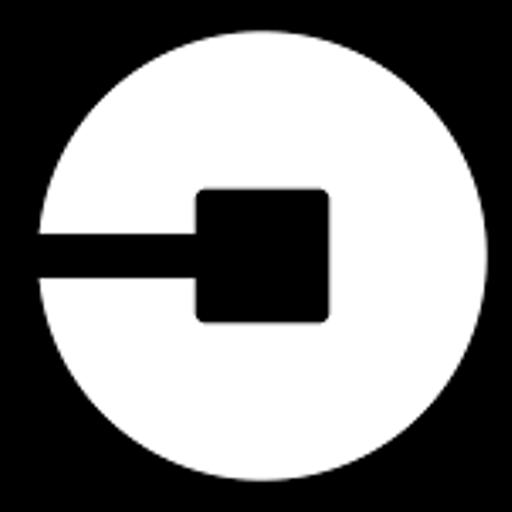Uber: (3, 0, 508, 512)
